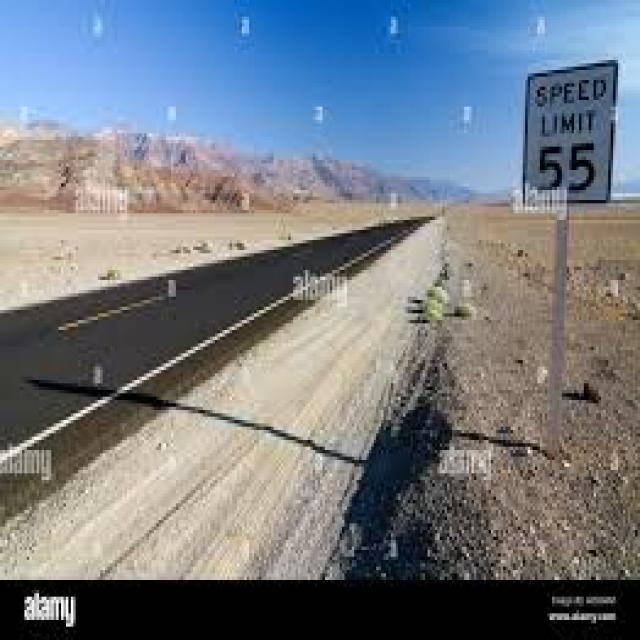speedLimit55: (522, 56, 619, 206)
